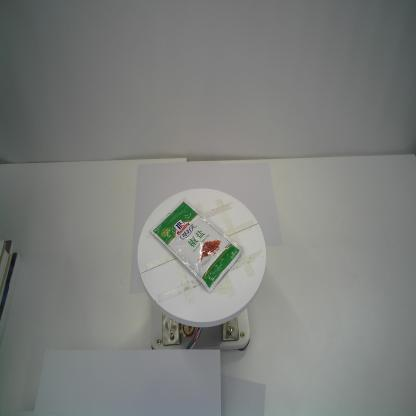Seasoner: (150, 198, 242, 292)
